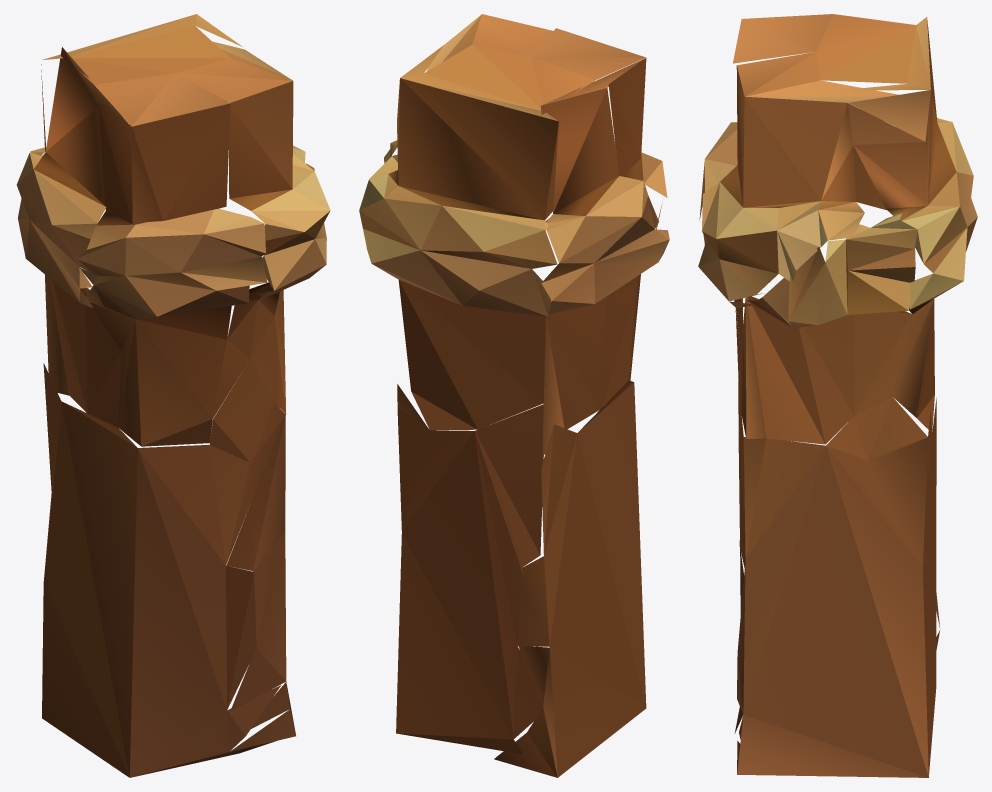
The model's file is building-rainTank-post.glb.
The picture shows the model from 3 angles, left to right: view 1: azimuth 30°, elevation 25°; view 2: azimuth 150°, elevation 25°; view 3: azimuth 270°, elevation 25°; orthographic projection. The views are drawn at different scales.
Parts seen in each view (by area): view 1: 0_rainTank-post; view 2: 0_rainTank-post; view 3: 0_rainTank-post.
Boxes of the visible parts, x1=… form: 0_rainTank-post: x1=16, y1=14, x2=330, y2=777; 0_rainTank-post: x1=359, y1=14, x2=669, y2=777; 0_rainTank-post: x1=698, y1=14, x2=977, y2=777.
Bounding box in the file's own units: 0.4082 × 1 × 0.3647.
